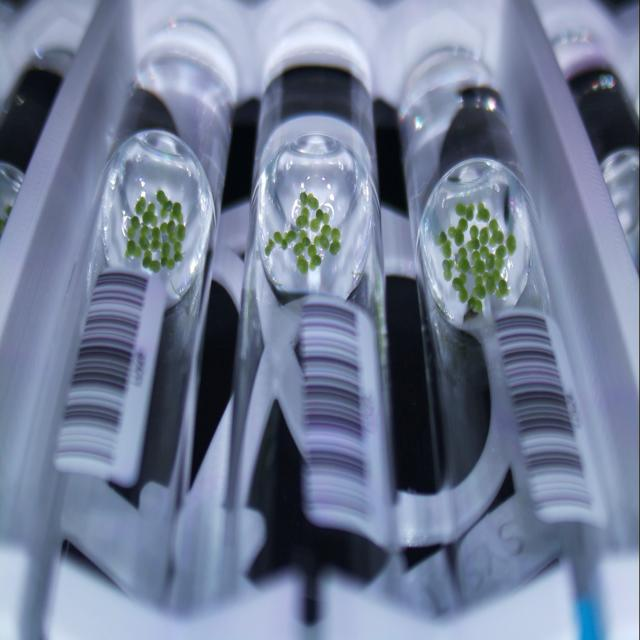Lemna-Gibba: (449, 218, 468, 247), (452, 272, 469, 302), (159, 220, 182, 240), (310, 208, 329, 232), (156, 190, 172, 218), (489, 218, 504, 247), (314, 225, 331, 250), (142, 250, 160, 272), (274, 230, 296, 248), (484, 270, 500, 294), (161, 242, 175, 269), (466, 225, 480, 252), (436, 232, 451, 257), (480, 245, 495, 270), (142, 202, 158, 224), (294, 232, 310, 254), (308, 243, 321, 270), (300, 192, 319, 210), (455, 203, 475, 220), (125, 238, 141, 259), (329, 227, 341, 255), (472, 275, 486, 299), (471, 252, 485, 276), (494, 243, 506, 269), (128, 215, 140, 240), (296, 207, 310, 228), (456, 252, 470, 272), (476, 202, 490, 222), (139, 225, 150, 250), (468, 295, 482, 314), (135, 195, 148, 215), (296, 254, 309, 274), (496, 279, 509, 299), (150, 227, 161, 250), (172, 202, 184, 223), (505, 233, 516, 255), (442, 260, 454, 280), (479, 227, 489, 245), (176, 223, 186, 240), (265, 238, 275, 255), (174, 240, 182, 260), (459, 220, 468, 230)
